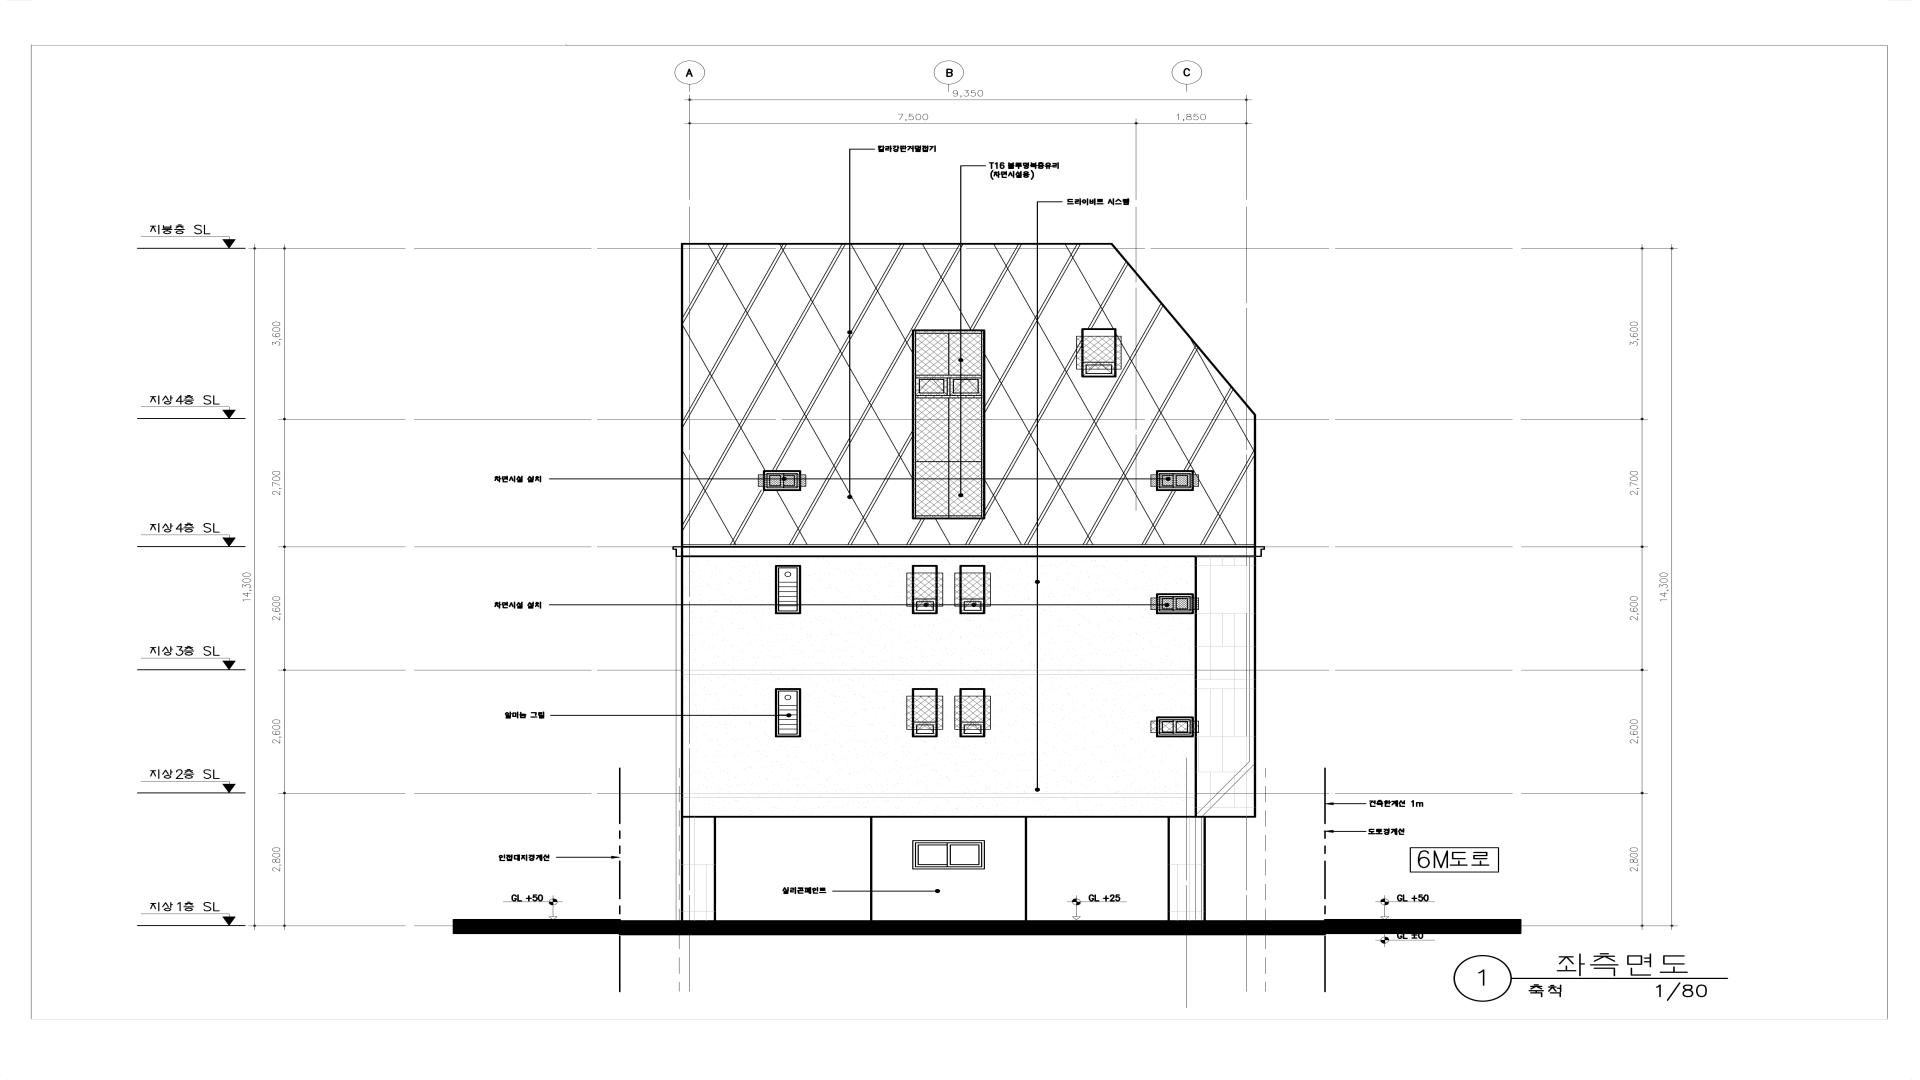door: (716, 818, 870, 922), (1026, 818, 1167, 920)
wall: (680, 243, 1257, 935)
window: (913, 398, 984, 518), (914, 331, 984, 376), (913, 840, 985, 870), (1081, 328, 1117, 377), (914, 376, 984, 398), (775, 564, 802, 615), (911, 564, 938, 615), (959, 564, 985, 615), (775, 688, 802, 737), (911, 688, 938, 737), (960, 688, 985, 737), (764, 469, 802, 491), (1156, 593, 1195, 615), (1155, 716, 1193, 737), (1155, 471, 1193, 491)
